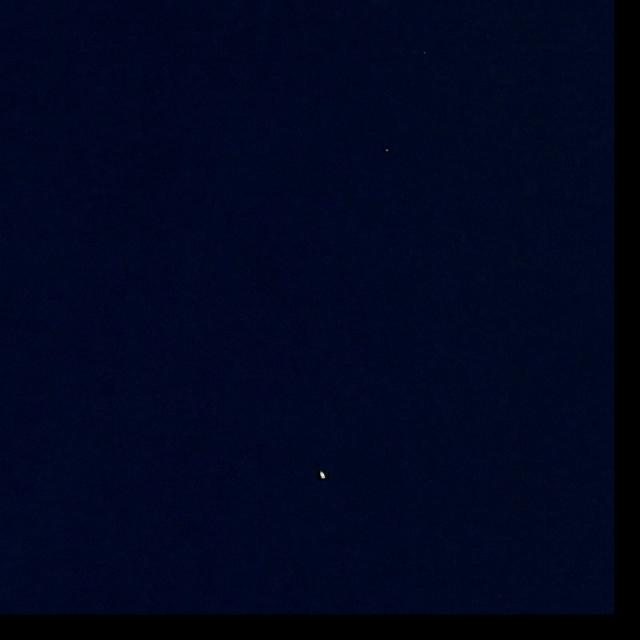ship: (320, 471, 326, 479)
